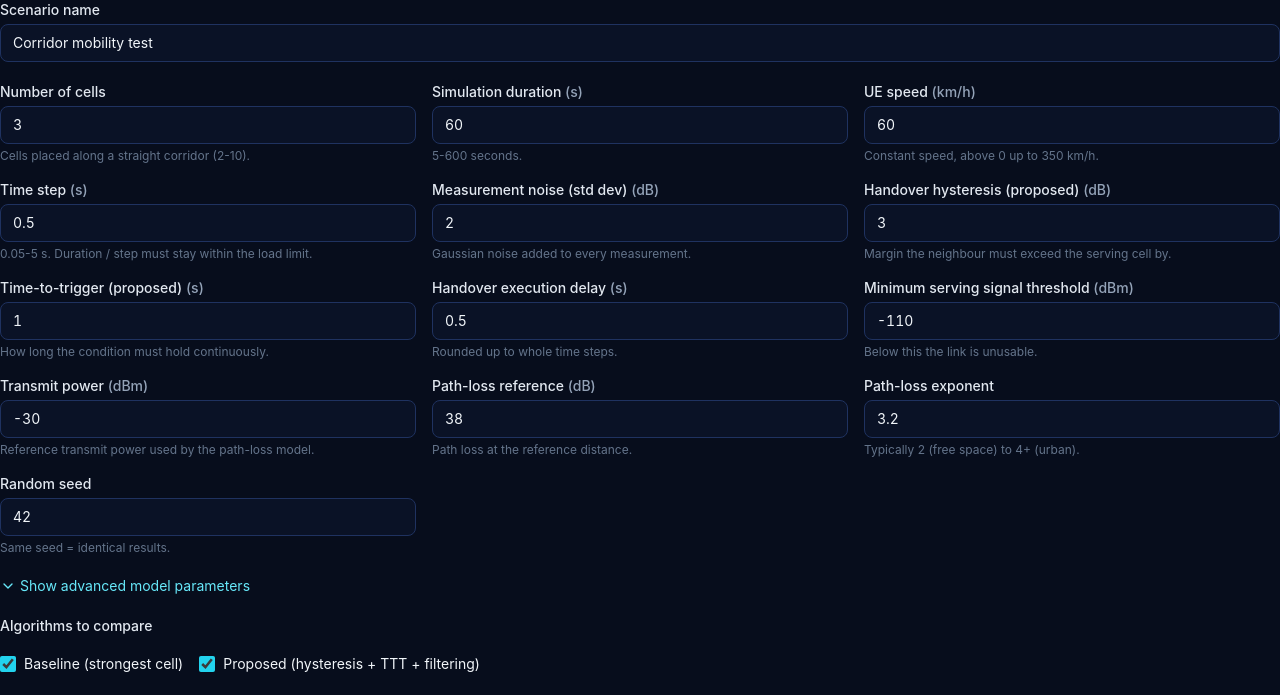
ConfigForm › reveals advanced parameters on demand
The width and height of the screenshot is (1280, 695).
Expected: the field labelled "Cell spacing" is not shown
Click the button "Show advanced model parameters": (125, 586) 0,576 -> 250,596
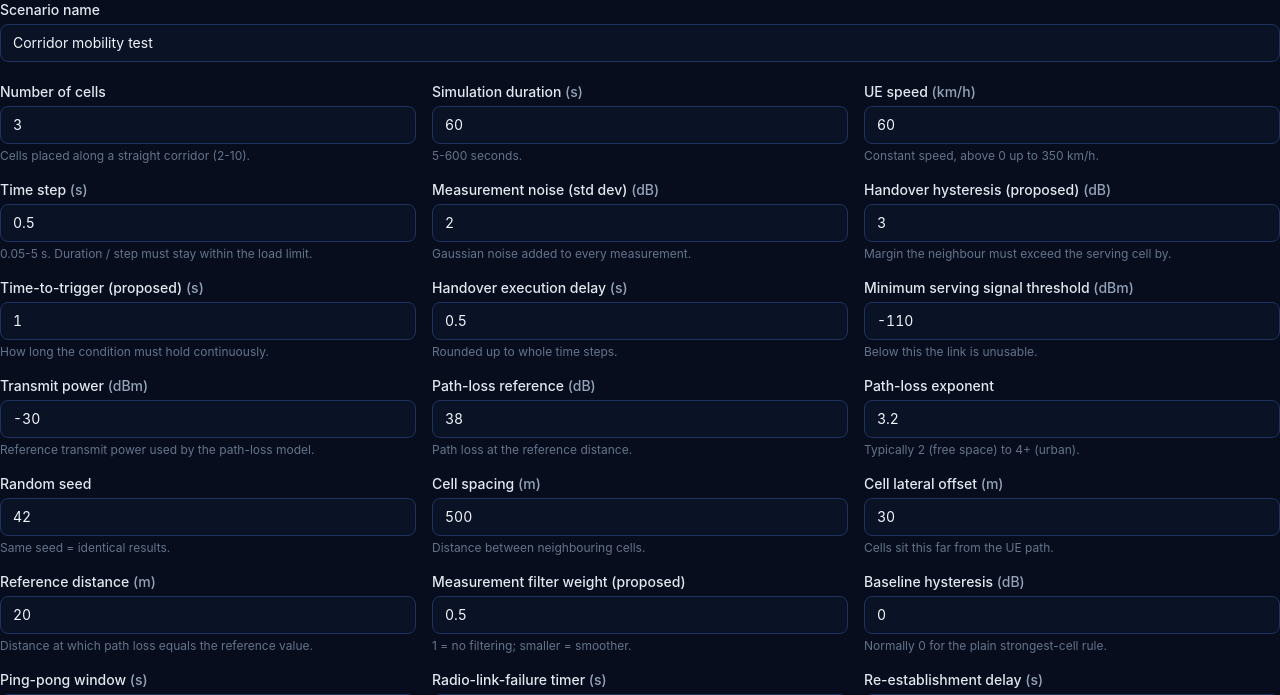
Expected: the field labelled "Cell spacing (m)" is shown, 432,498 -> 848,536
